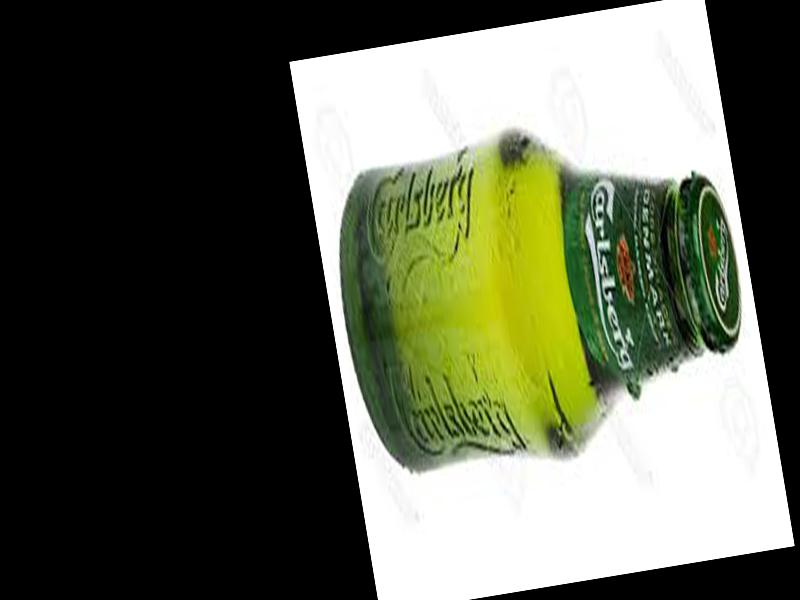Beer: (316, 95, 763, 488)
